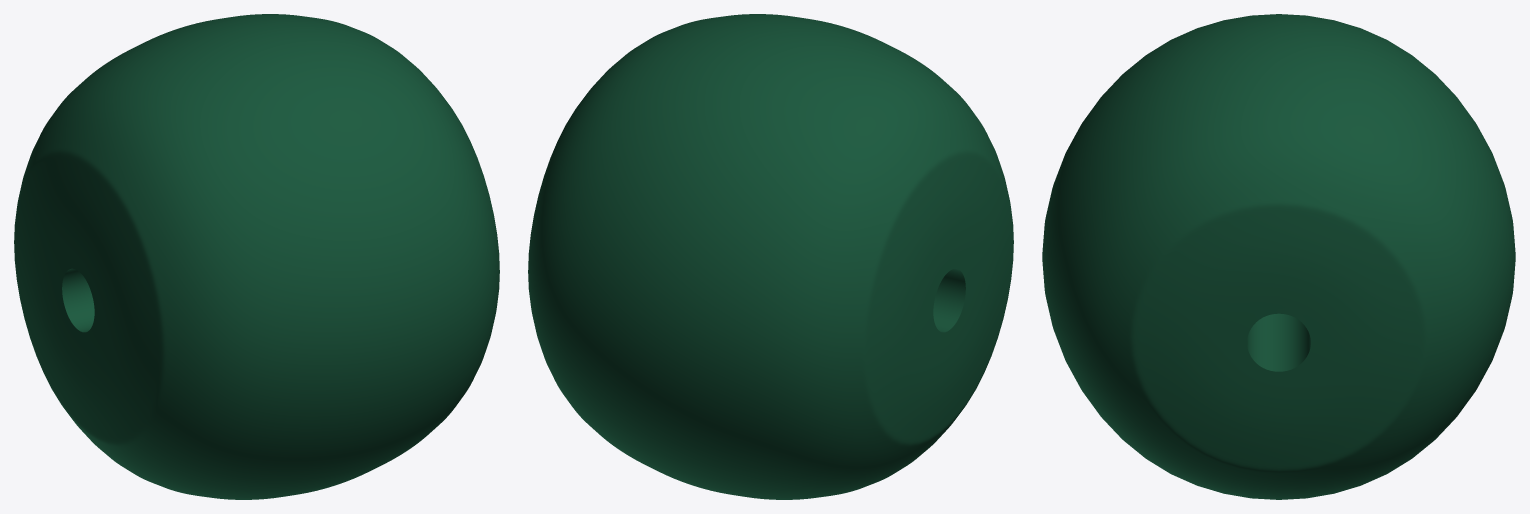
File: 绿玛瑙.glb
3 views of the same model, side by side, from view 1: azimuth 30°, elevation 25°; view 2: azimuth 150°, elevation 25°; view 3: azimuth 270°, elevation 25° (orthographic).
Visible parts, largest first — view 1: JewelCAD_2; view 2: JewelCAD_2; view 3: JewelCAD_2.
Part boxes in pixels (<box>): JewelCAD_2: <box>14,14,499,499</box>; JewelCAD_2: <box>528,14,1013,499</box>; JewelCAD_2: <box>1042,14,1515,499</box>.
Bounding box in the file's own units: 0.006 × 0.007 × 0.007.
